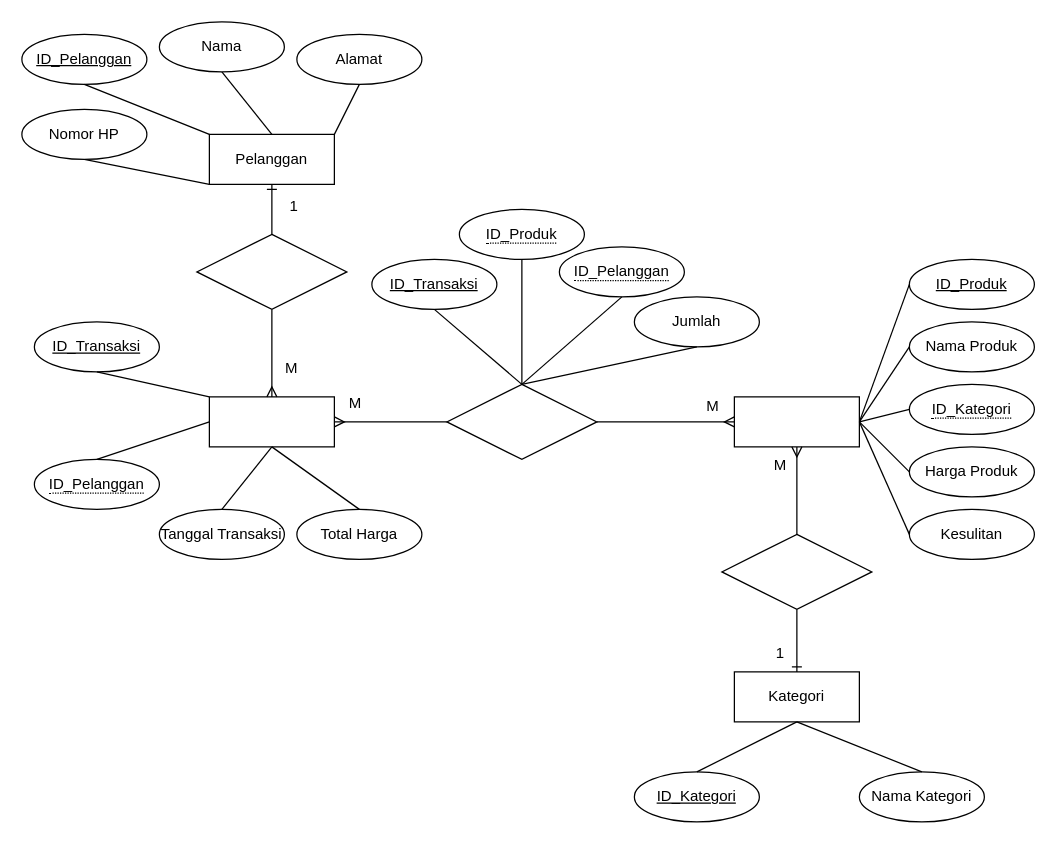
Some shapes in this 1056 by 844 pixel diagram are drawn without their labels. Here are the shapes that lost their labels. From the top down, the box of each, then its label:
(196, 233, 347, 309): Input
(208, 396, 334, 447): Transaksi
(446, 383, 597, 459): Detail Transaksi
(733, 396, 859, 447): Produk
(721, 533, 872, 609): Memiliki
